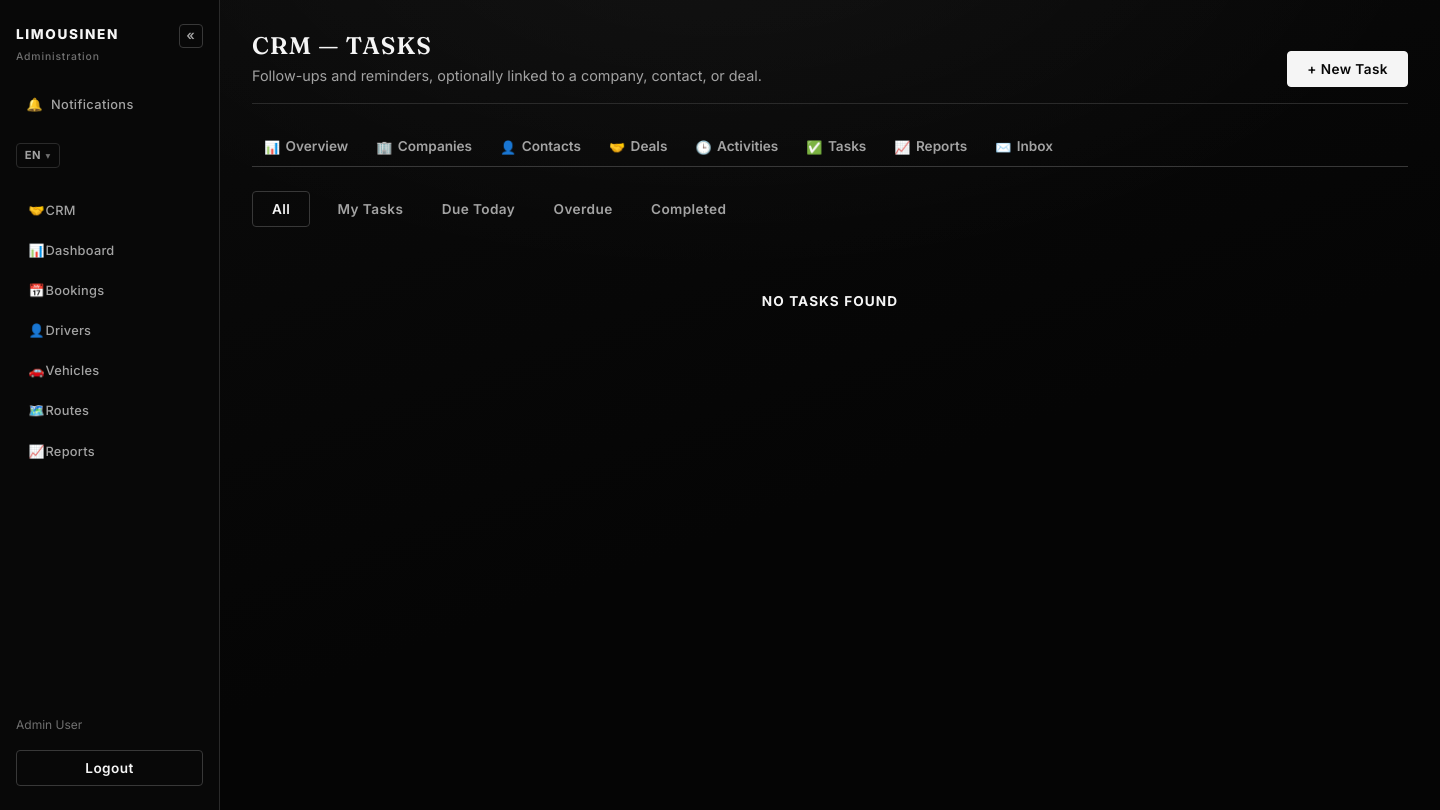
Test: CrmTasksPage › creates a task
Check: the text "No Tasks Found" is shown, box [762,293,898,309]
Step 1. Click the button "+ New Task" → click(1348, 69), box [1287,52,1408,87]
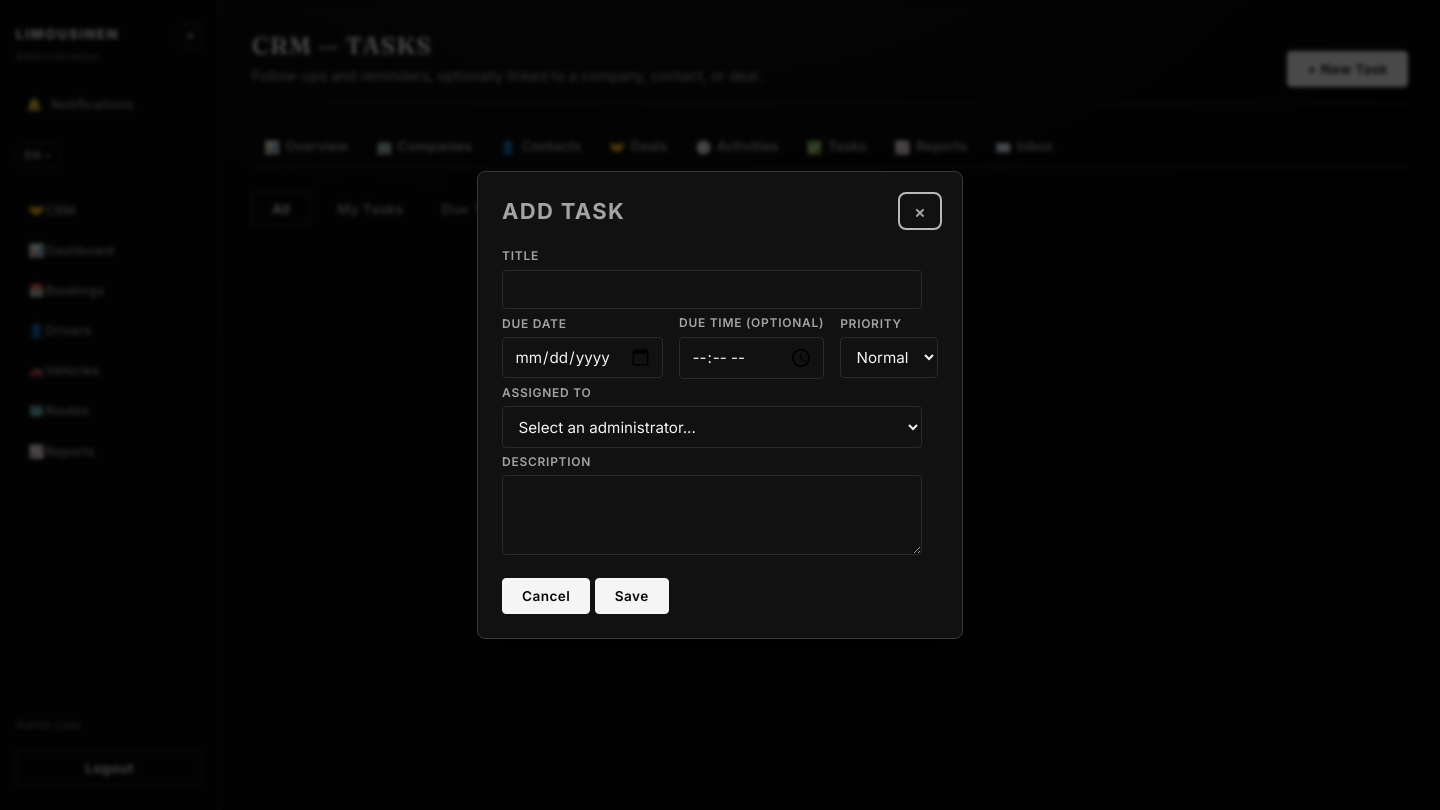
Step 2. Type "Send proposal" into the field labelled "Title" → (712, 290), box [502,270,922,309]
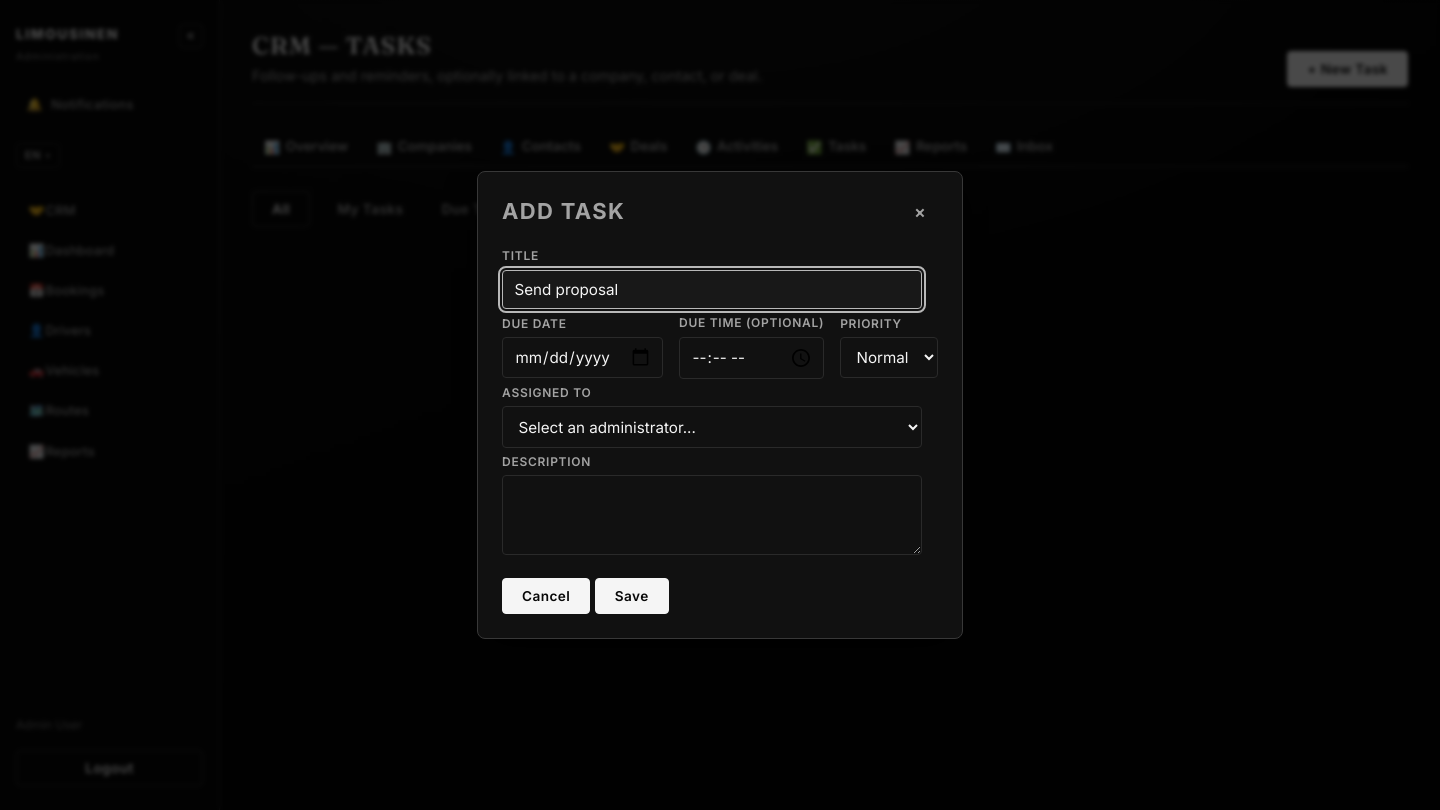
Step 3. Type "2026-11-01" into the date field labelled "Due date" → (583, 358), box [502,337,663,378]
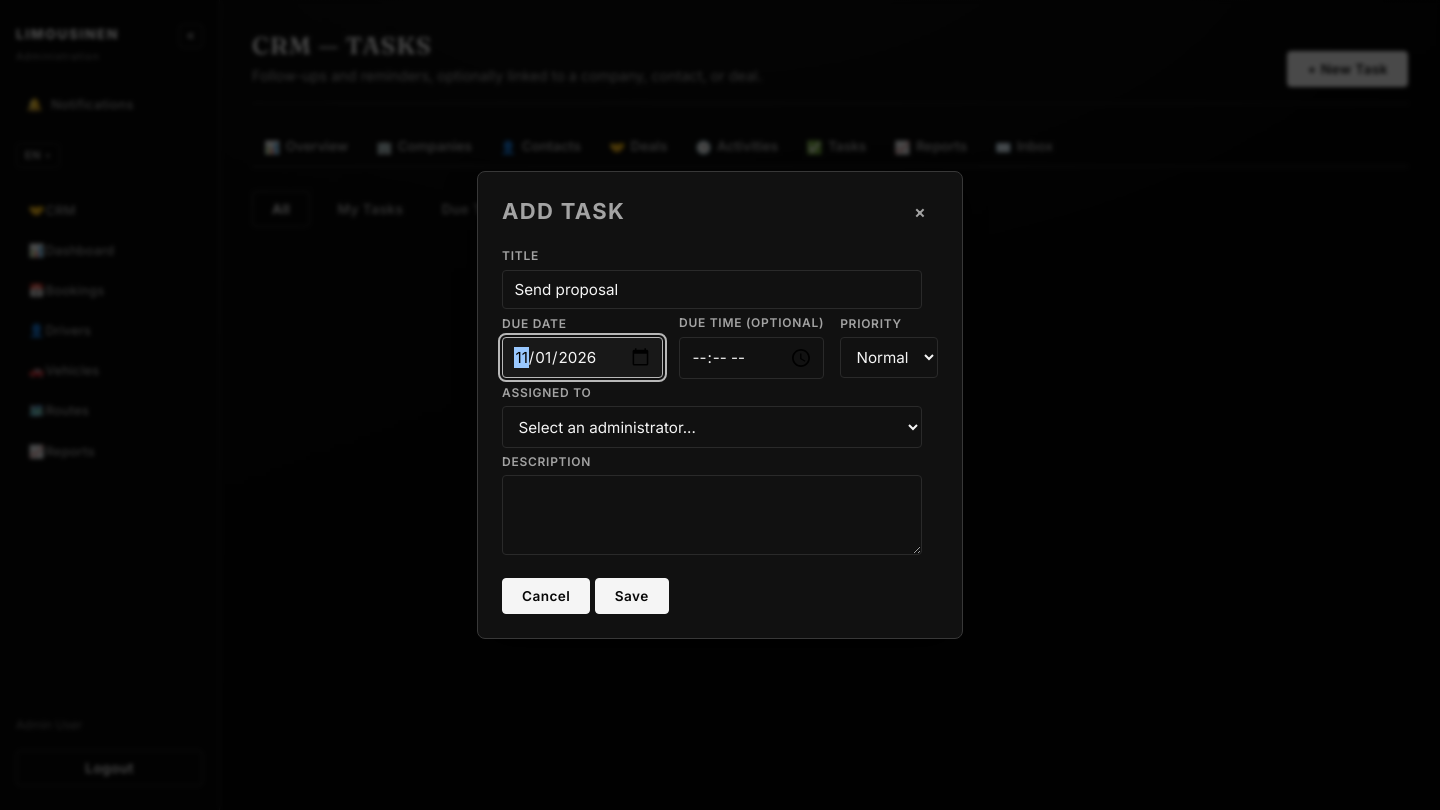
Step 4. Select "Admin User" in the dropdown labelled "Assigned to" → (712, 427), box [502,406,922,448]
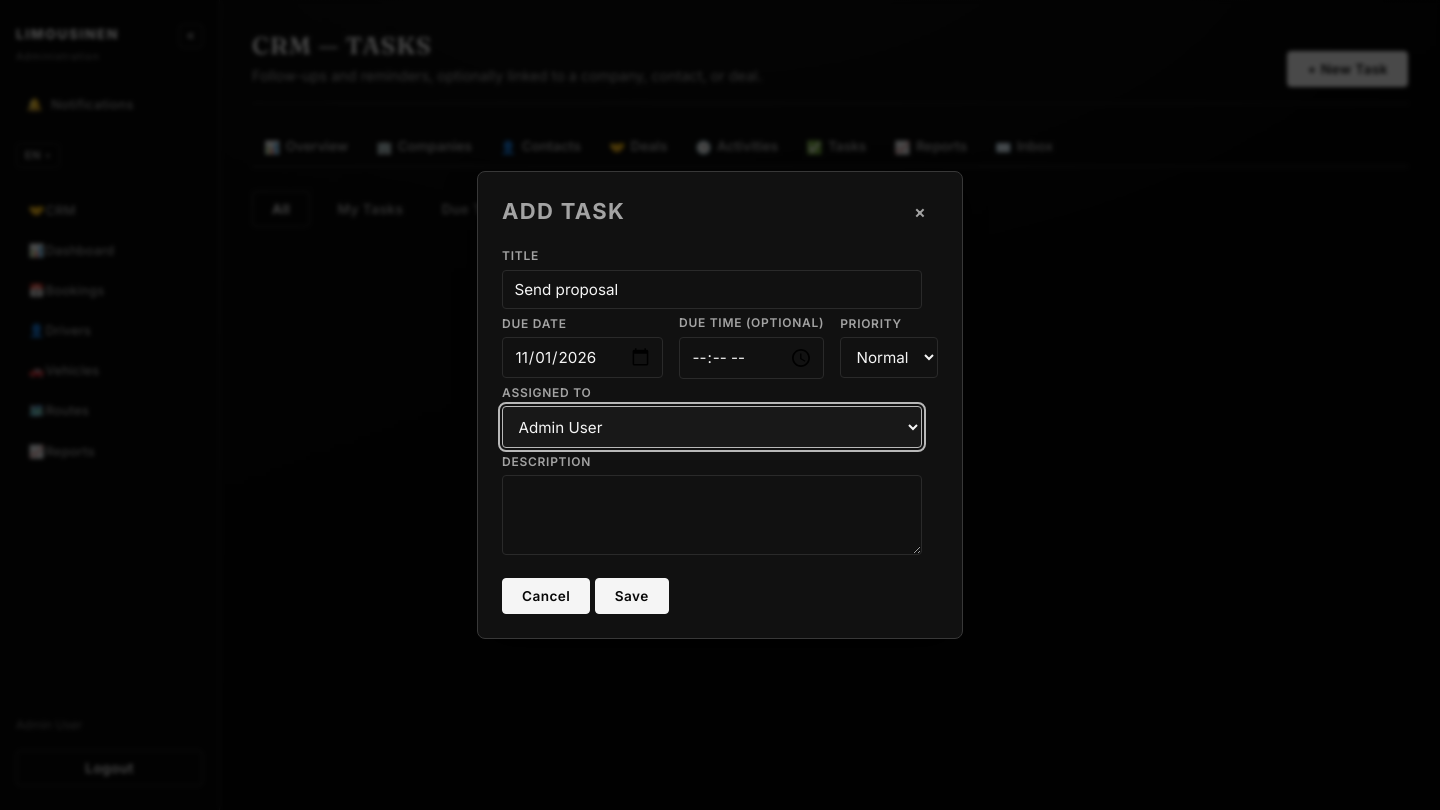
Step 5. Click the button "Save" → click(632, 596), box [595,578,669,614]
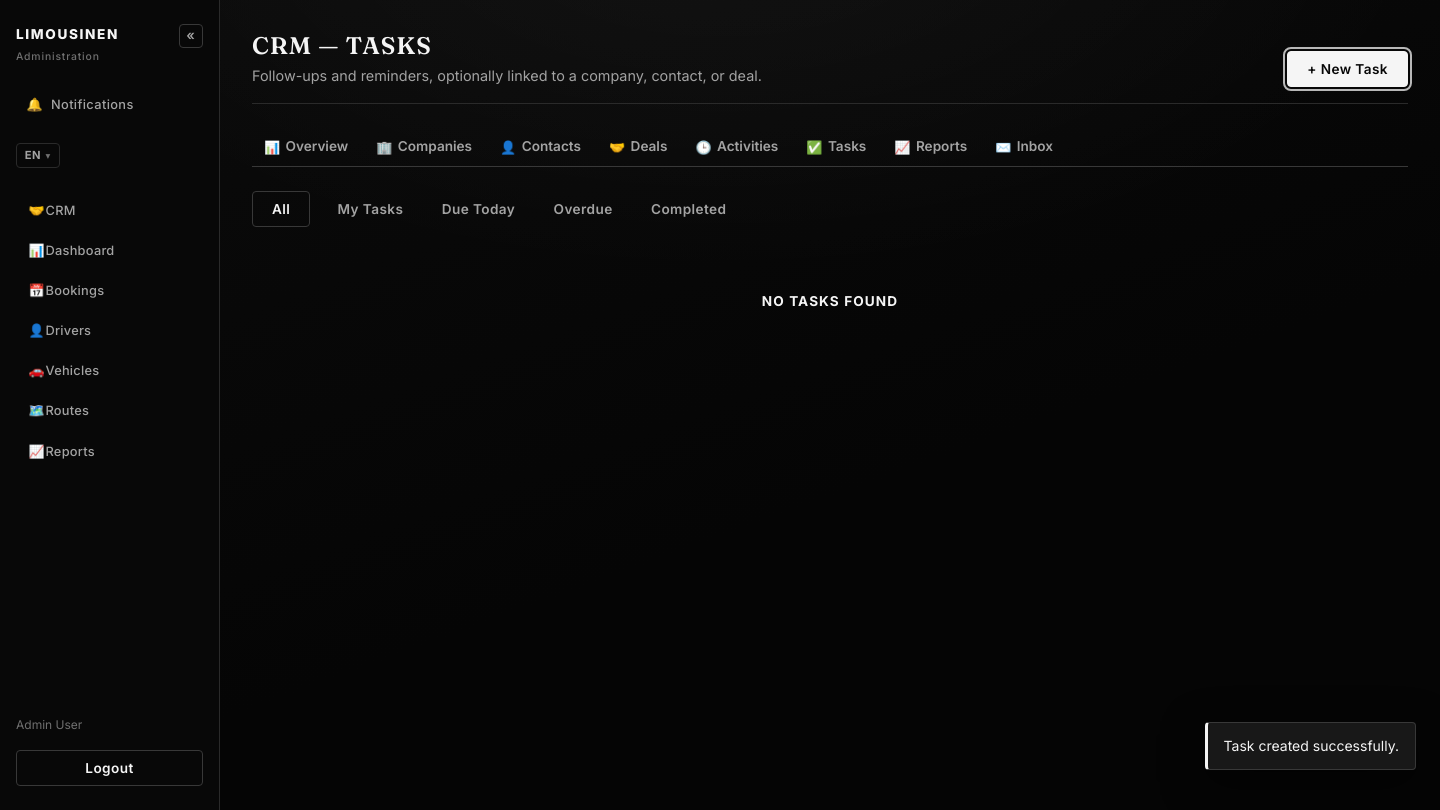
Check: the text "Task created successfully." is shown, box [1205,722,1416,770]
